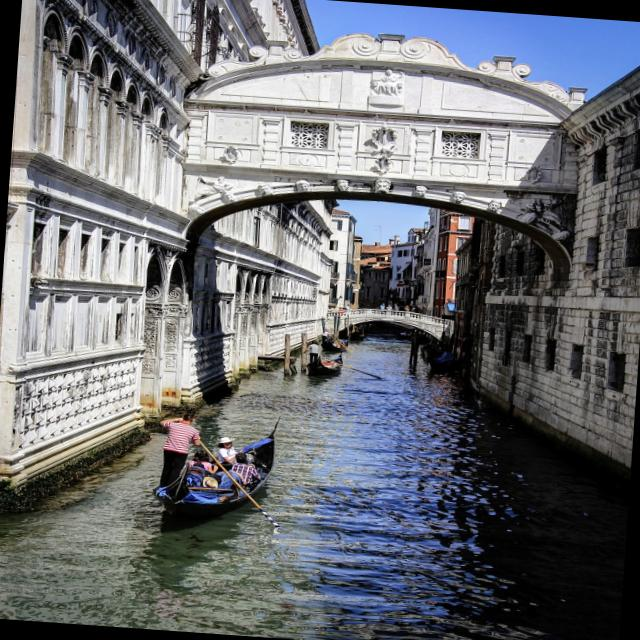boat: (145, 410, 297, 537)
